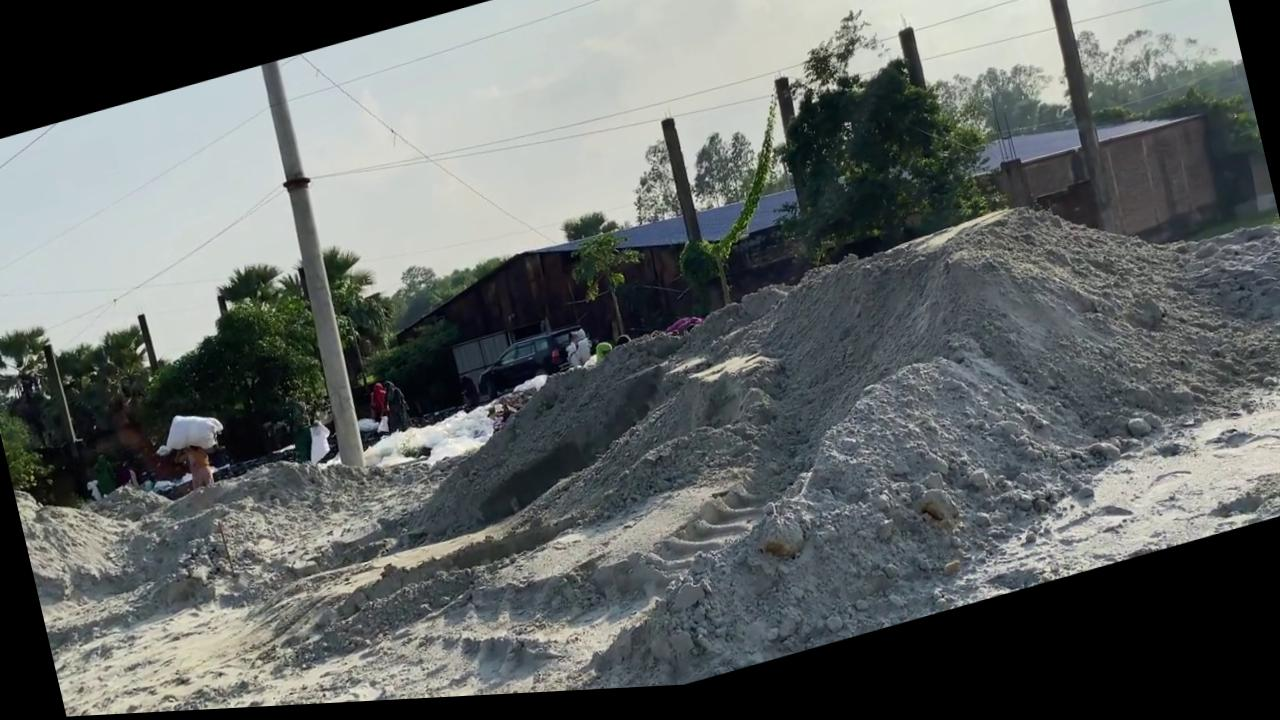Car: (469, 325, 598, 408)
Garbage: (14, 148, 1280, 719)
Pole: (246, 59, 372, 480), (1037, 0, 1121, 250), (656, 120, 720, 322), (136, 313, 158, 374)
Traffic-sign: (562, 226, 660, 356)
